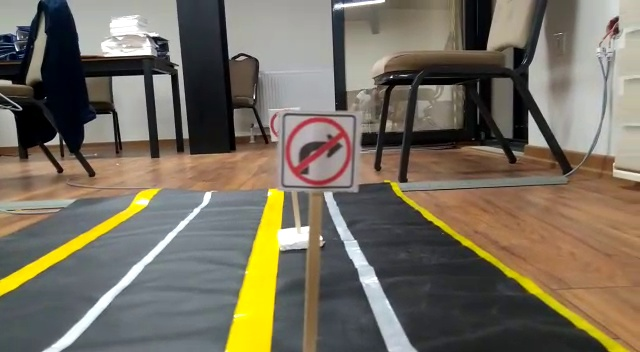saga_donulmez: (283, 113, 354, 188)
